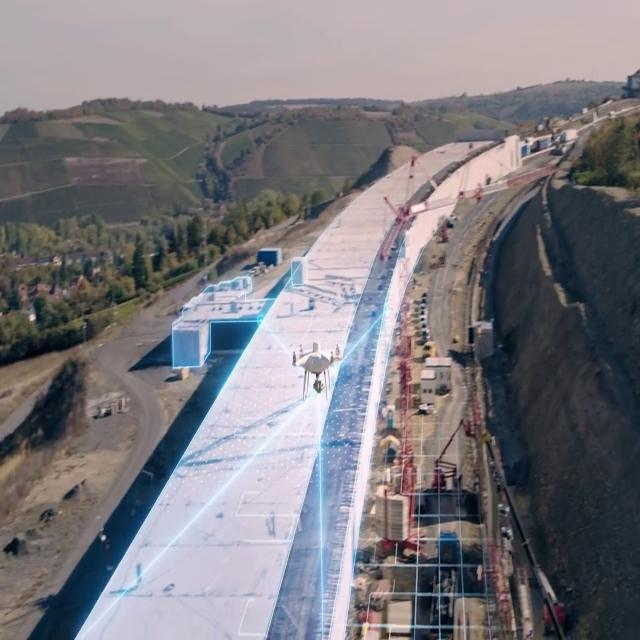drone: (290, 336, 344, 400)
